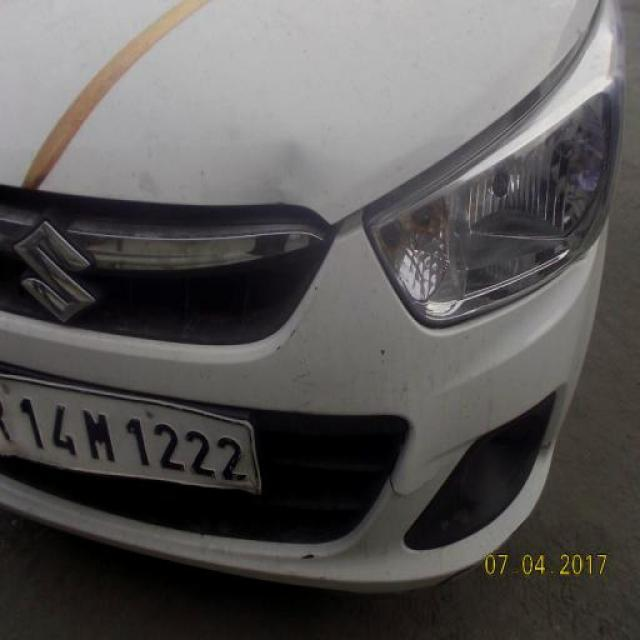Car-Damage: (267, 131, 324, 206), (387, 465, 451, 503)
